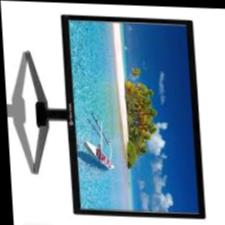monitor: (42, 14, 212, 222)
